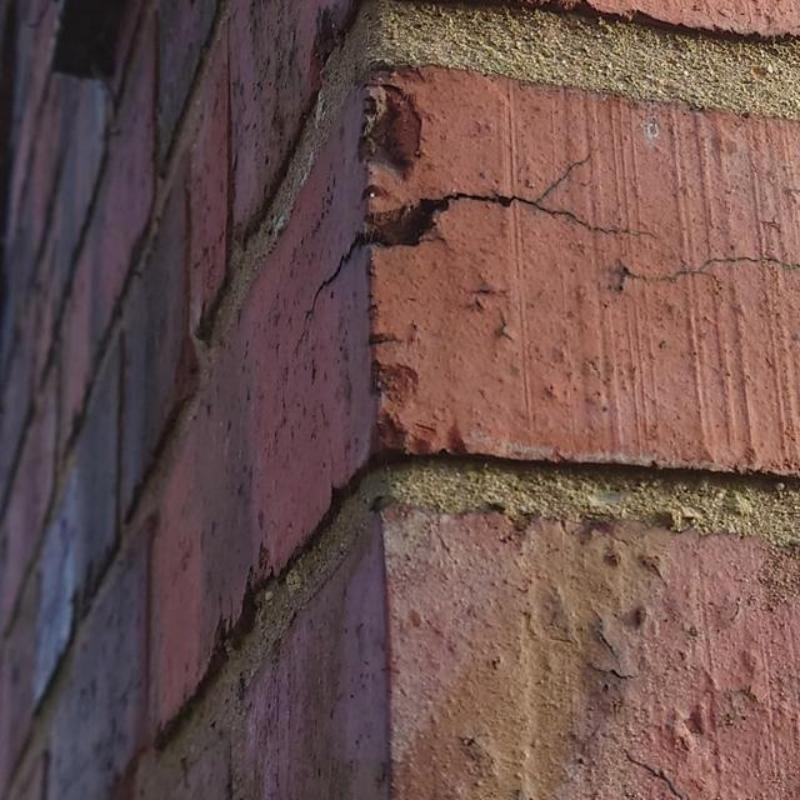pothole: (294, 151, 650, 358), (611, 256, 799, 296), (621, 746, 685, 799)
